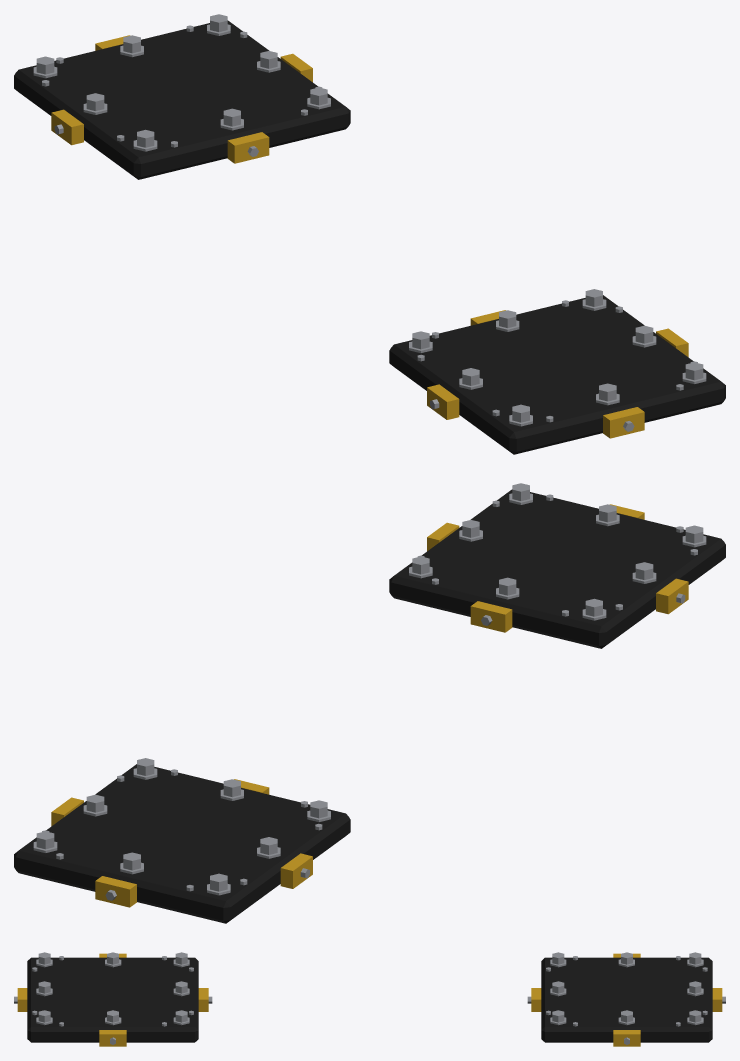
File: md40_flange.obj
The picture shows the model from 3 angles, top to bottom: view 1: azimuth 30°, elevation 25°; view 2: azimuth 150°, elevation 25°; view 3: azimuth 270°, elevation 25°; orthographic projection. The views are drawn at different scales.
Visible parts, largest first — view 1: md40_flange; view 2: md40_flange; view 3: md40_flange.
Boxes of the visible parts, box(x1,y1,x2,y2) form: md40_flange: box(14, 14, 725, 454); md40_flange: box(14, 483, 725, 923); md40_flange: box(14, 952, 725, 1046).
Bounding box in the file's own units: 1.62 × 0.2135 × 5.82.
